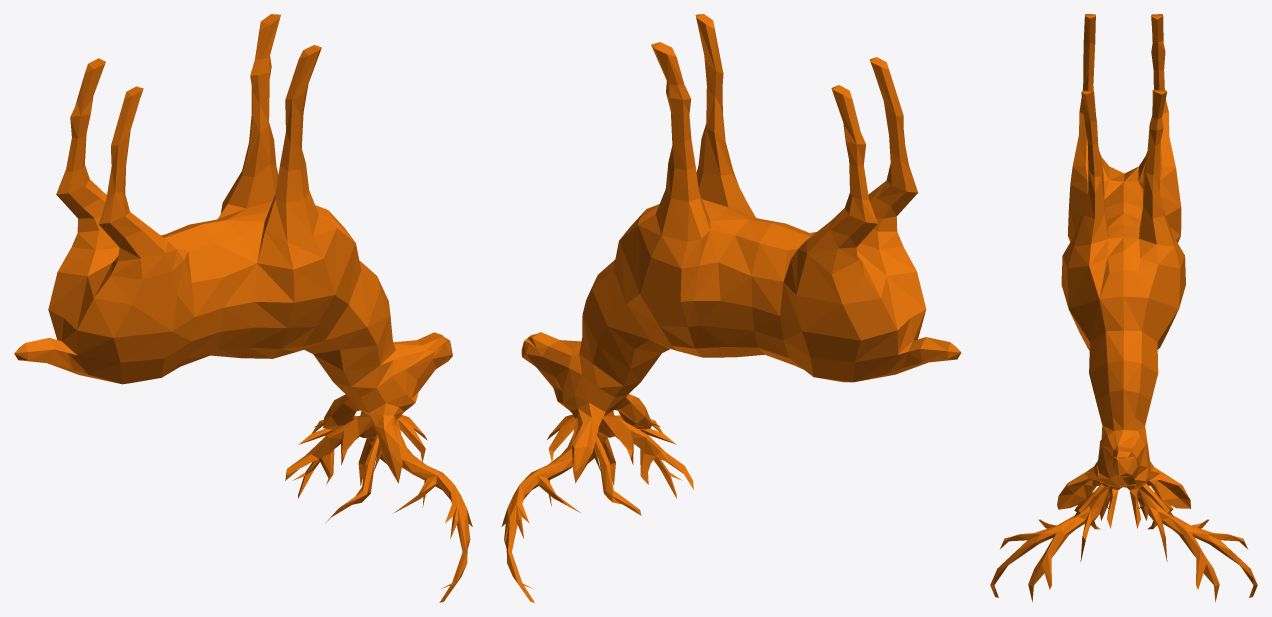
The model's file is deer.obj.
The picture shows the model from 3 angles, left to right: view 1: azimuth 30°, elevation 25°; view 2: azimuth 150°, elevation 25°; view 3: azimuth 270°, elevation 25°; orthographic projection. The views are drawn at different scales.
Parts seen in each view (by area): view 1: grp1_2_ID6; view 2: grp1_2_ID6; view 3: grp1_2_ID6.
Part boxes in pixels (left/top/right/bottom): grp1_2_ID6: left=14, top=14, right=472, bottom=602; grp1_2_ID6: left=501, top=14, right=961, bottom=602; grp1_2_ID6: left=990, top=14, right=1257, bottom=602.
Size of the model in its own units: 1.85 by 2.17 by 1.11.
